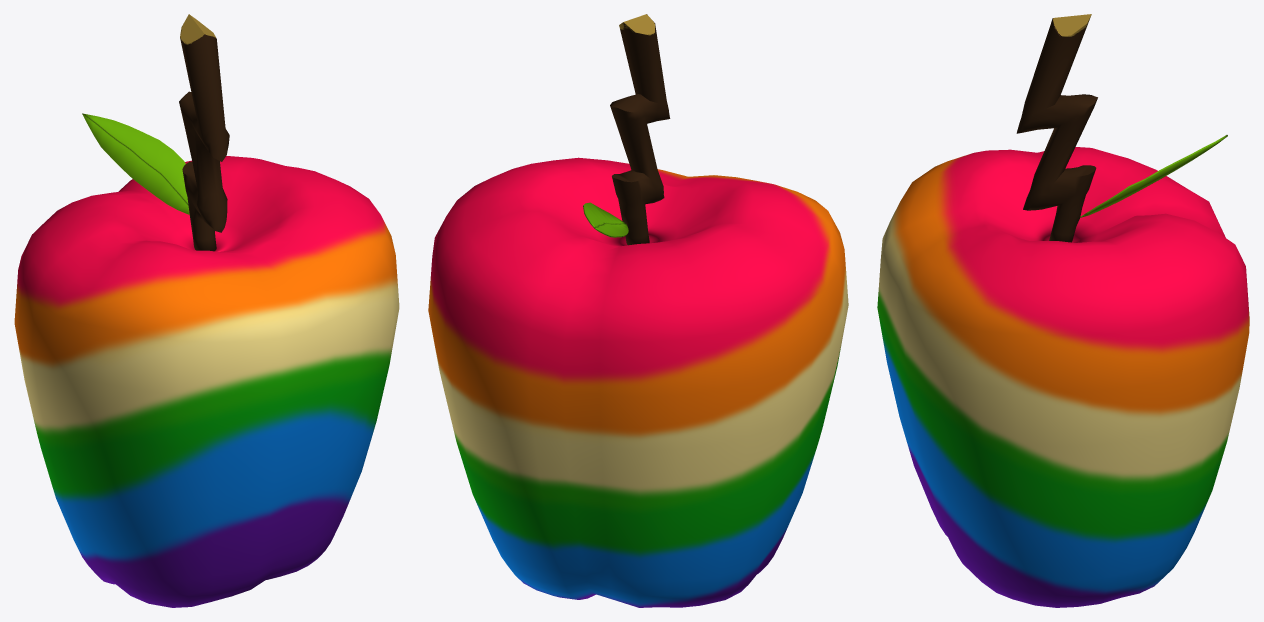
File: VoltApple.fbx
3 views of the same model, side by side, from view 1: azimuth 30°, elevation 25°; view 2: azimuth 150°, elevation 25°; view 3: azimuth 270°, elevation 25° (orthographic). The views are drawn at different scales.
Visible parts, largest first — view 1: Sphere; view 2: Sphere; view 3: Sphere.
Boxes of the visible parts, x1=… form: Sphere: x1=14, y1=14, x2=399, y2=607; Sphere: x1=428, y1=14, x2=848, y2=607; Sphere: x1=877, y1=14, x2=1249, y2=607.
Size of the model in its own units: 0.1814 by 0.2741 by 0.1672.
